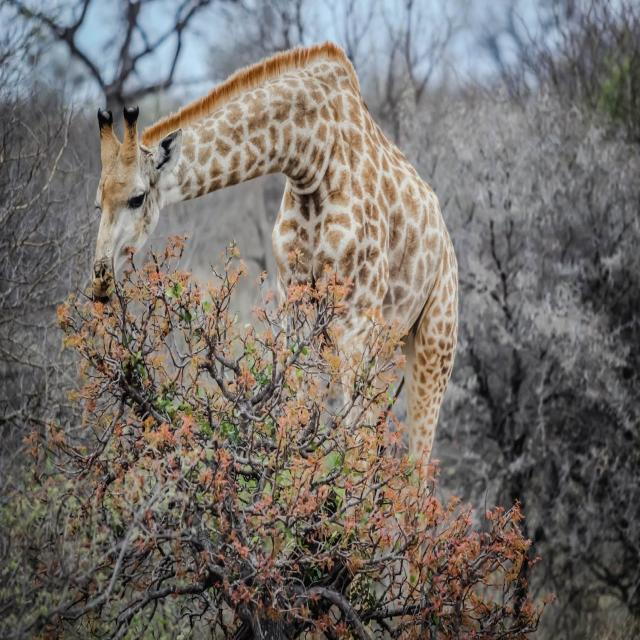Giraffe: (90, 39, 458, 640)
